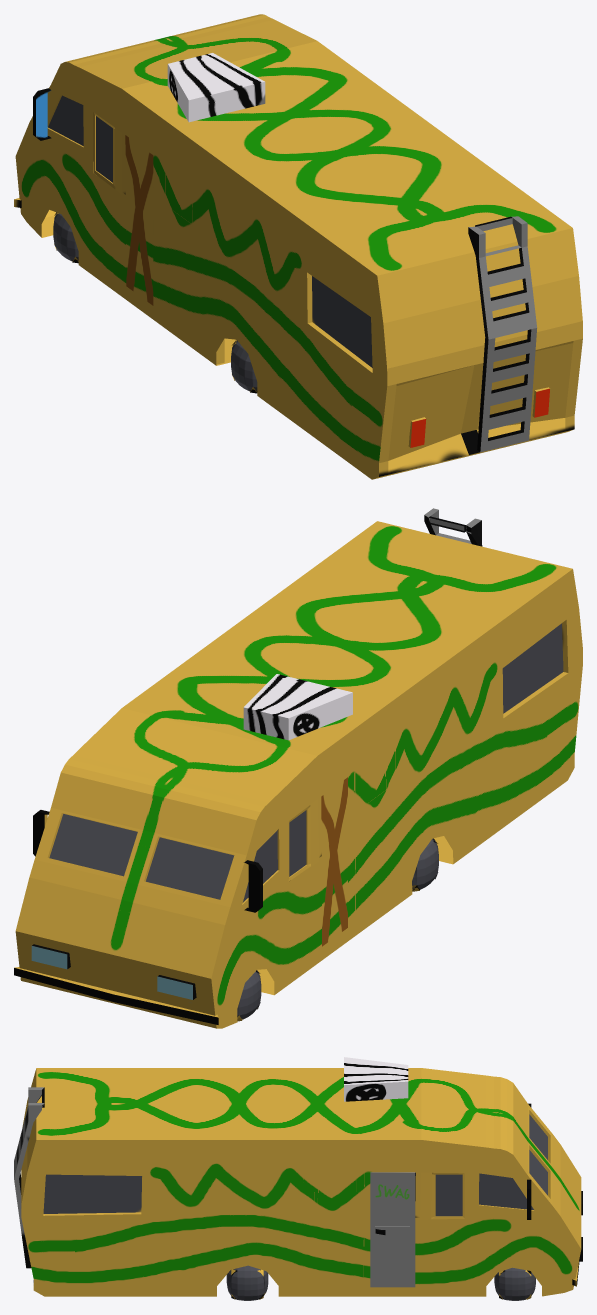
The model's file is trailer.fbx.
The picture shows the model from 3 angles, top to bottom: view 1: azimuth 30°, elevation 25°; view 2: azimuth 150°, elevation 25°; view 3: azimuth 270°, elevation 25°; orthographic projection. The views are drawn at different scales.
Parts seen in each view (by area): view 1: Cube, Cube.001; view 2: Cube, Cube.001; view 3: Cube, Cube.001.
Part boxes in pixels (x1=…): Cube: x1=14, y1=14, x2=582, y2=479; Cube.001: x1=125, y1=53, x2=537, y2=452; Cube: x1=14, y1=521, x2=582, y2=1028; Cube.001: x1=243, y1=508, x2=482, y2=946; Cube: x1=21, y1=1068, x2=582, y2=1300; Cube.001: x1=14, y1=1057, x2=415, y2=1287.
Size of the model in its own units: 251 by 257 by 724.
2 materials, 2 textured.
